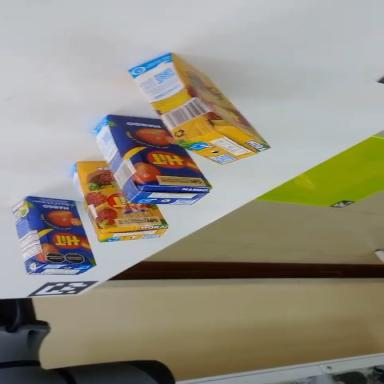HIT-MANGO: (81, 90, 214, 234), (3, 182, 98, 290)
HIT-MORA: (117, 34, 270, 193), (48, 148, 174, 270)
cara_F: (100, 91, 213, 219), (170, 46, 269, 156), (70, 139, 167, 251), (24, 182, 97, 280)
